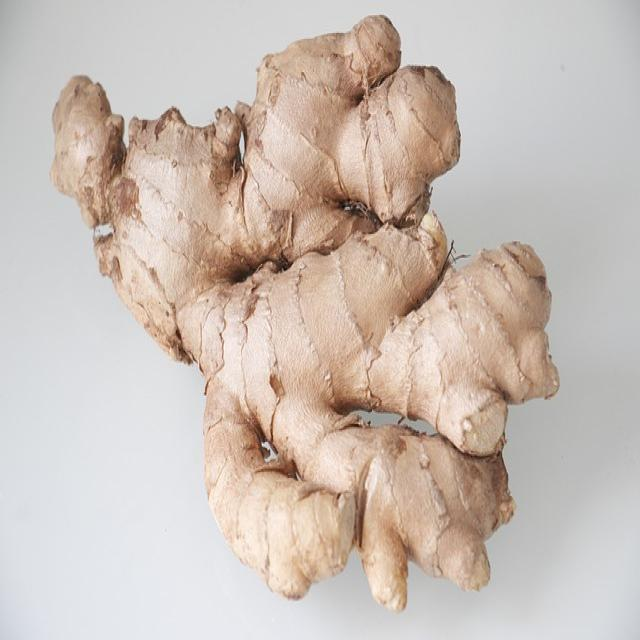ginger-root: (32, 11, 568, 618)
